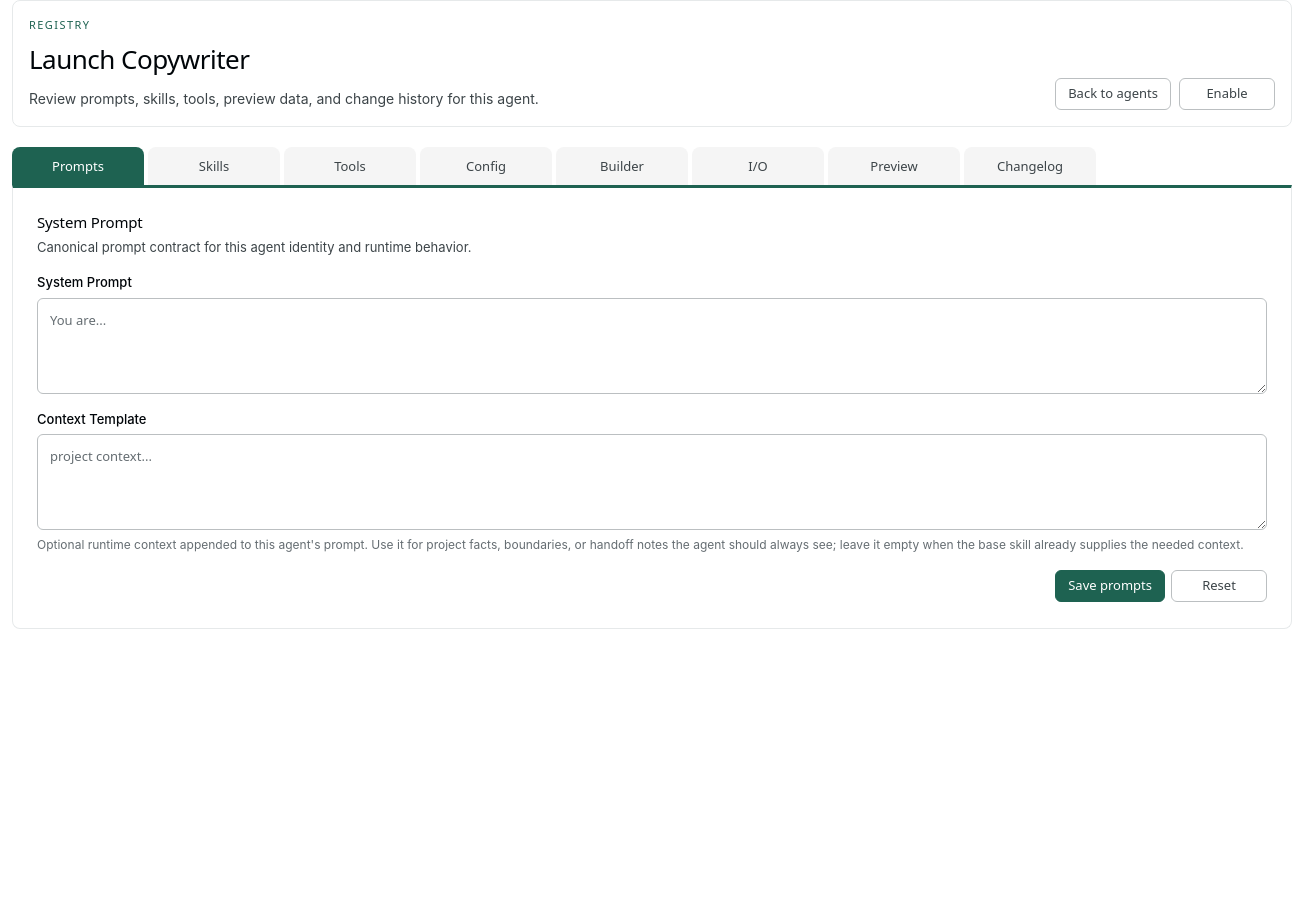
Test: RegistryAgentsDetailPage › reverts an unpersisted skill selection after a relationship save fails
Expected: the heading "Launch Copywriter" is shown, [29,41,249,77]
Click the tab "Skills" at (214, 166), box [148,147,280,185]
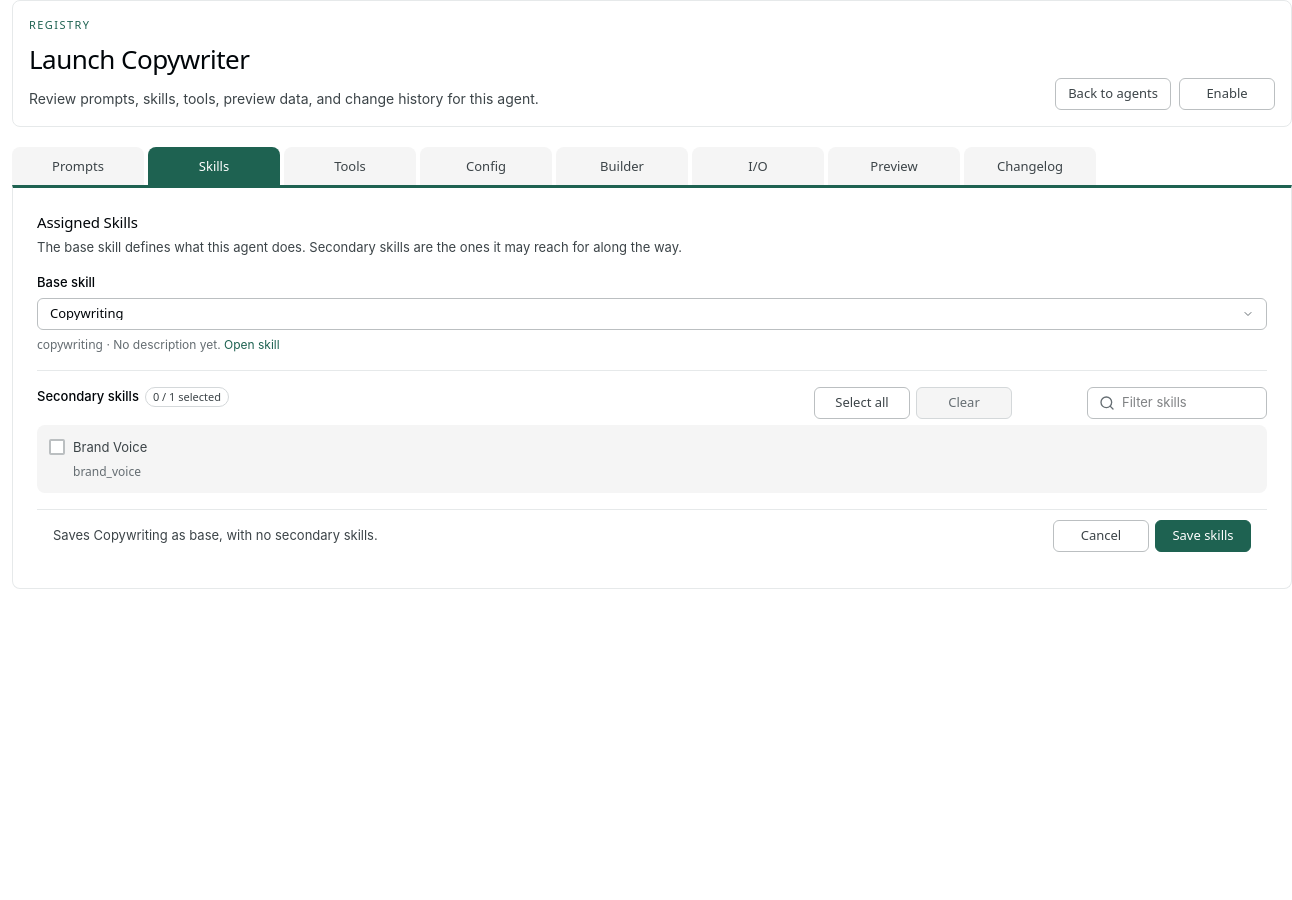
Click the checkbox labelled "Brand Voice brand_voice" at (110, 447), box [49,439,147,480]
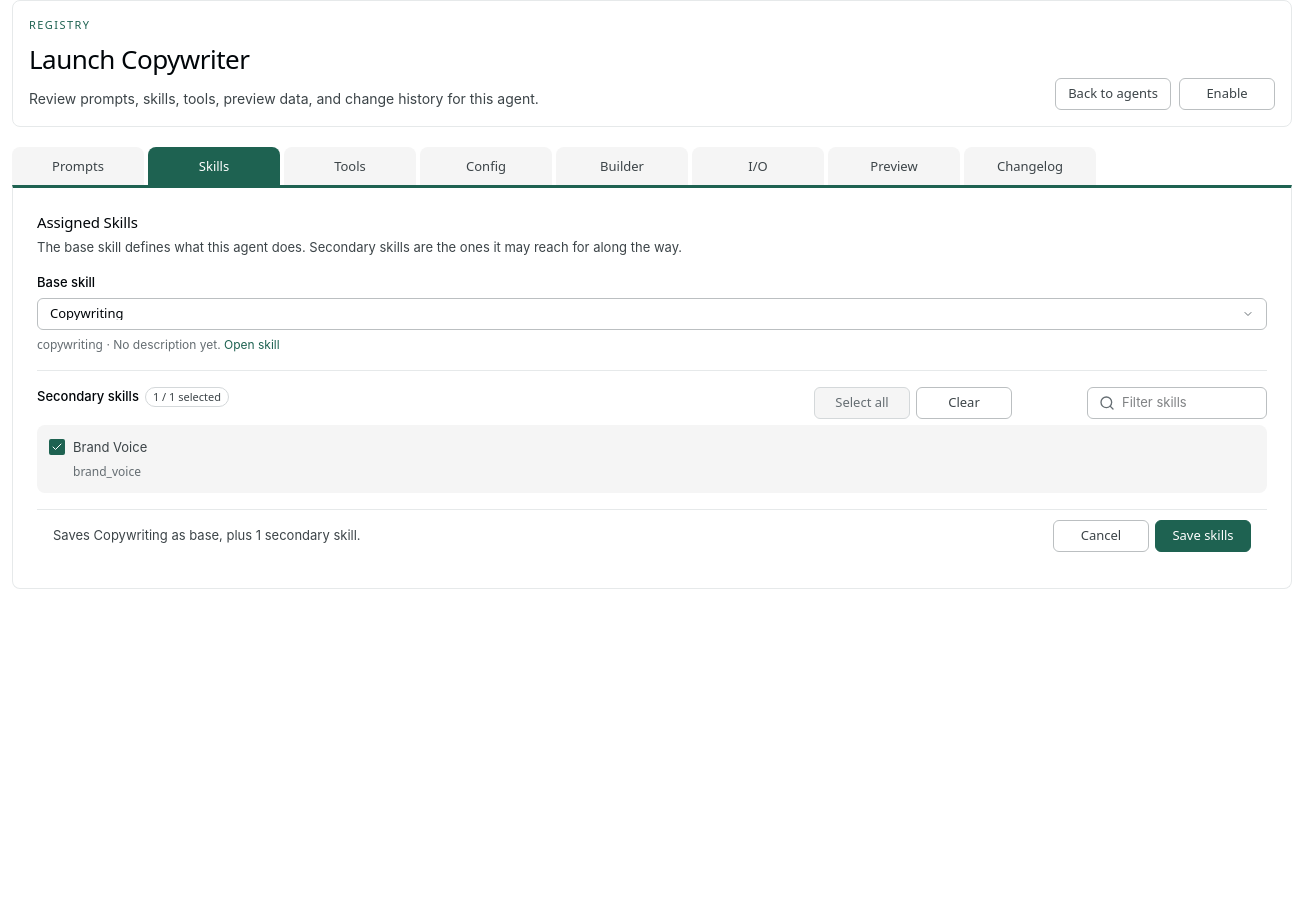
Now the checkbox labelled "Brand Voice brand_voice" is checked, box [49,439,147,480]
Click the button "Save skills" at (1203, 536), box [1155,520,1251,552]
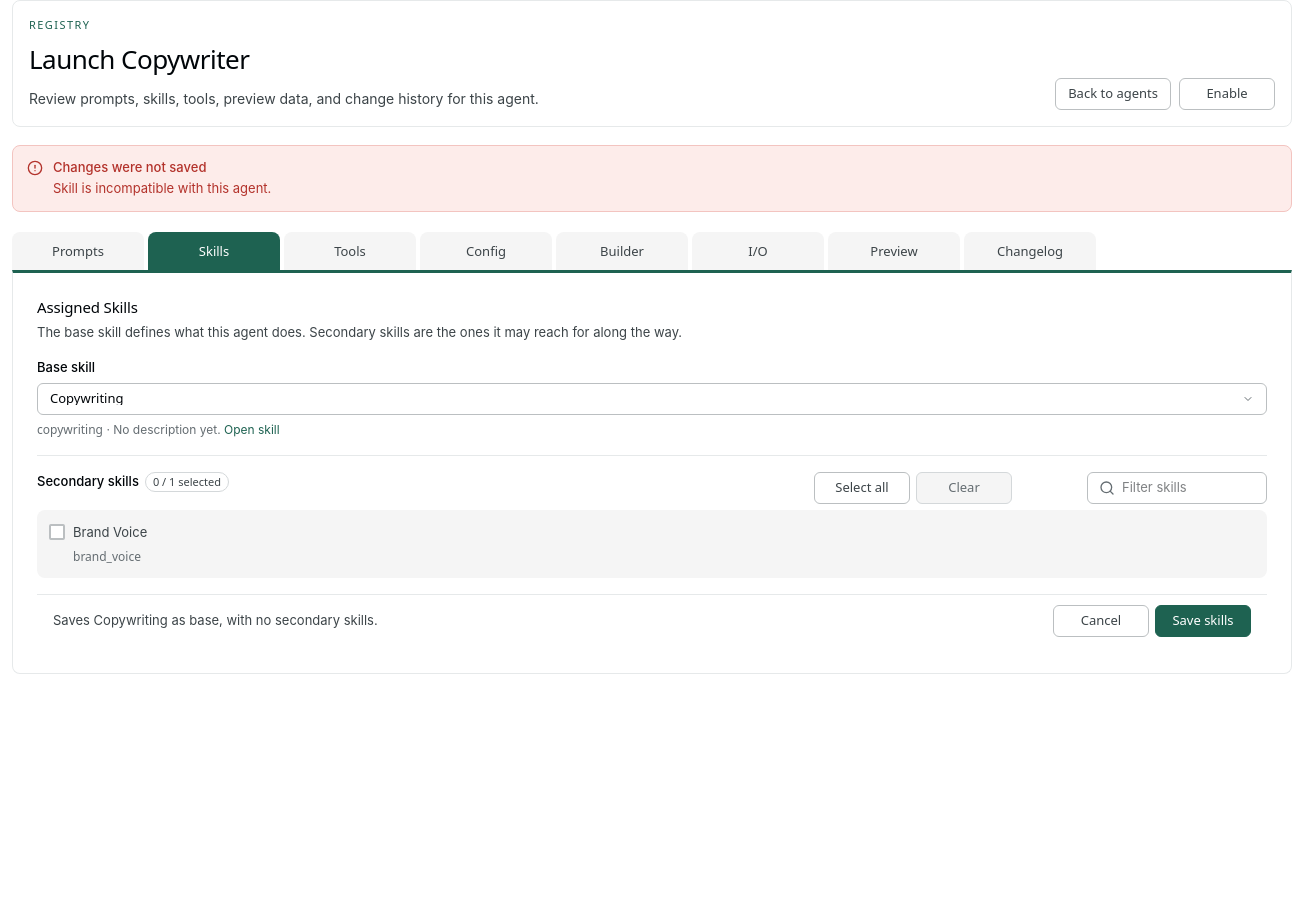
Now the checkbox labelled "Brand Voice brand_voice" is not checked, box [49,524,147,565]
Now the message shows "Changes were not saved", box [53,159,206,175]
Now the message shows "Skill is incompatible with this agent.", box [53,180,271,196]
